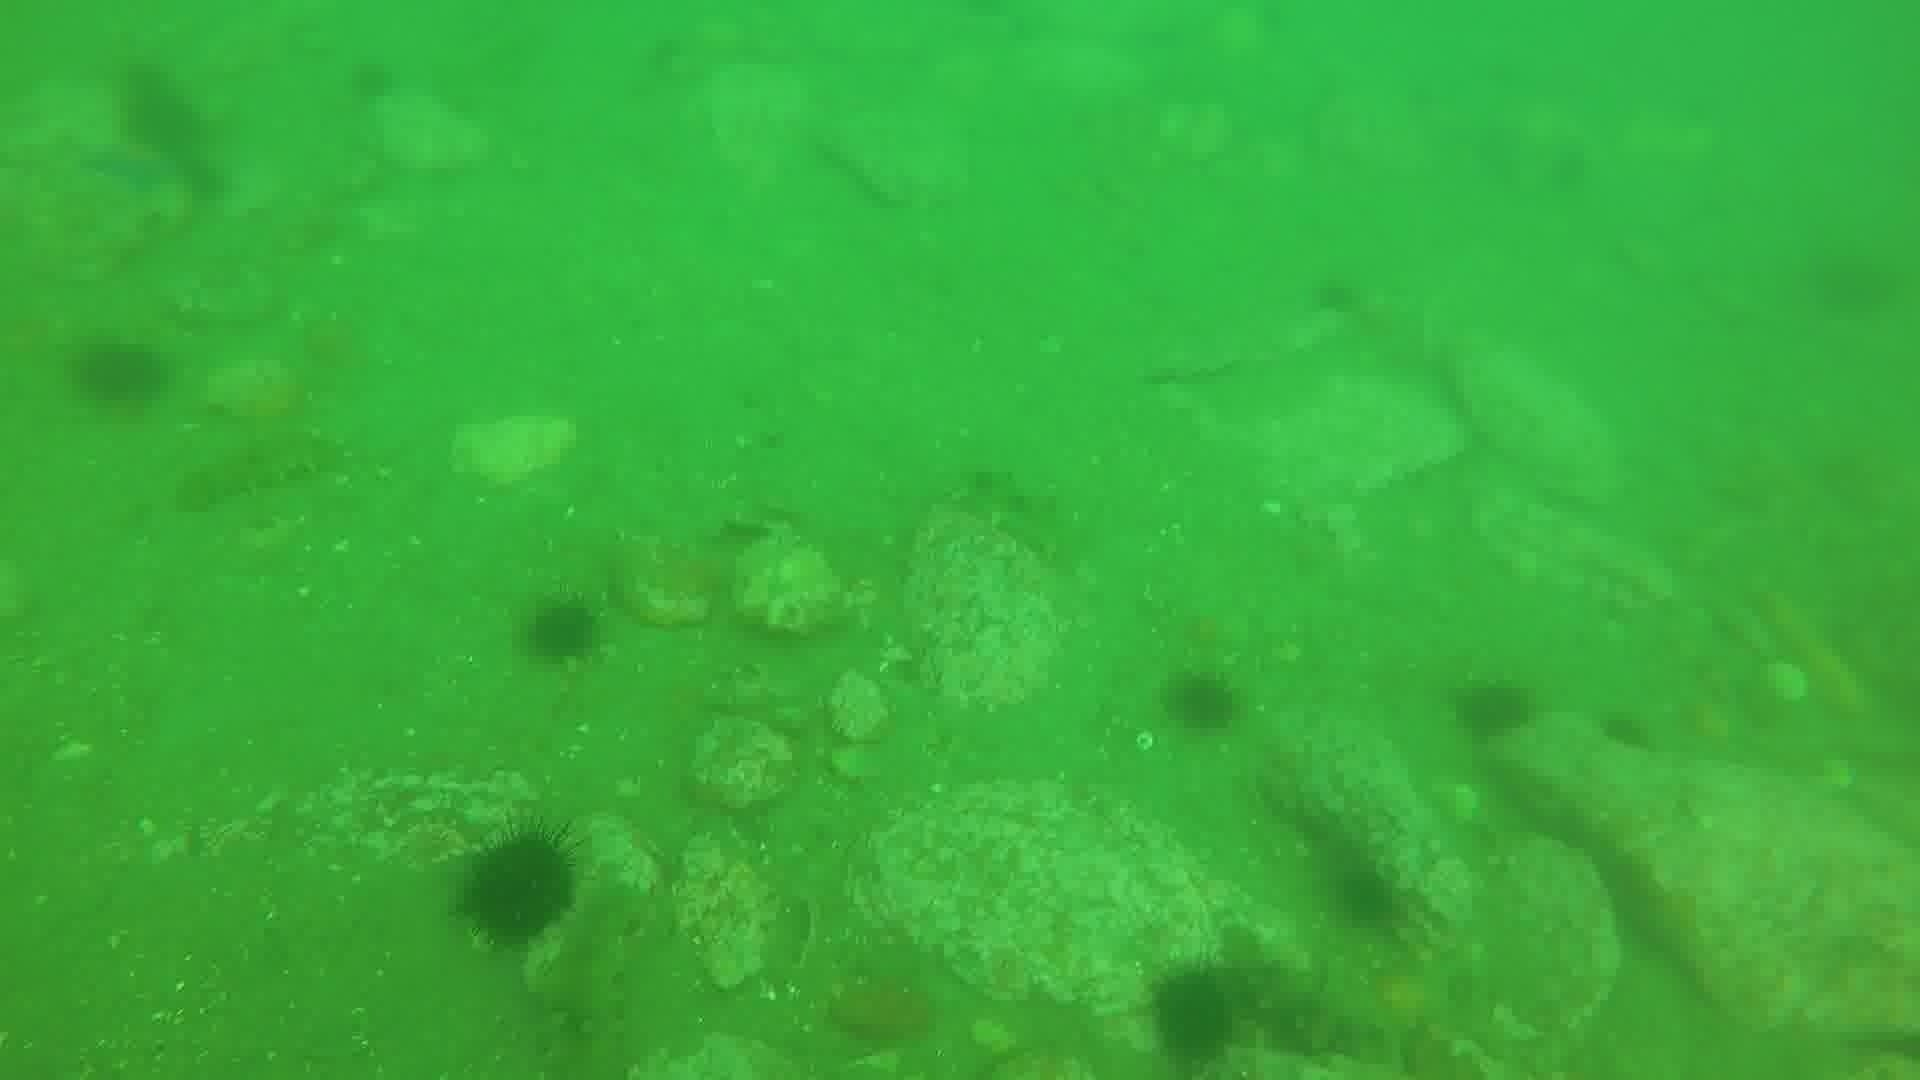echinus: (452, 822, 585, 951), (1141, 961, 1247, 1069), (113, 74, 211, 164), (67, 334, 171, 414), (518, 593, 607, 670), (1448, 674, 1538, 744), (1325, 861, 1404, 935), (1160, 667, 1244, 737), (342, 54, 401, 108), (1596, 705, 1656, 756)
holothurian: (1212, 935, 1419, 1068), (547, 881, 665, 1080), (173, 425, 345, 513), (949, 462, 1080, 571)
